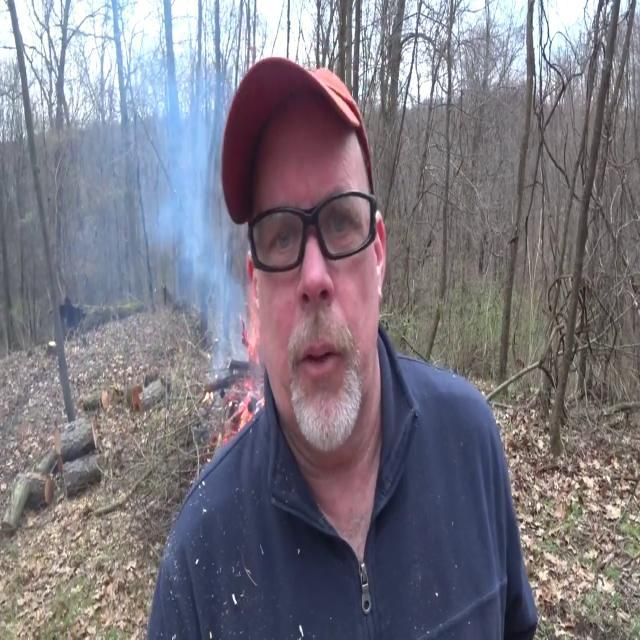Smoke: (146, 31, 250, 371)
